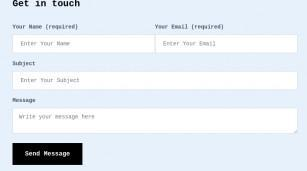button: (13, 143, 84, 167)
input: (13, 73, 299, 90), (14, 36, 156, 54), (157, 36, 298, 54)
label: (12, 22, 80, 32), (8, 1, 83, 10), (155, 23, 226, 32), (13, 96, 39, 105), (13, 60, 39, 68)
